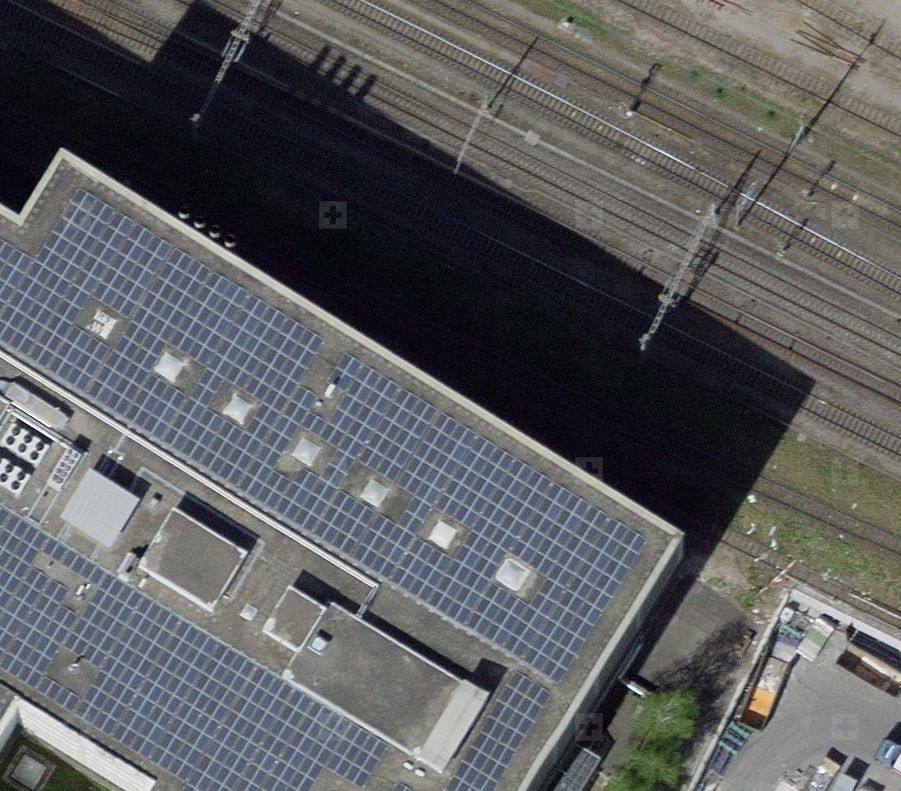solar: (1, 189, 645, 791)
